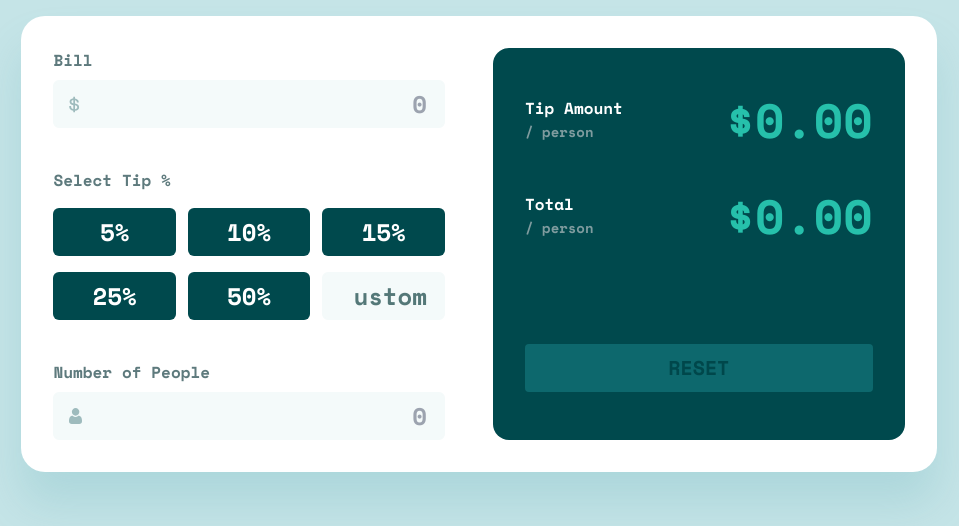
Test: TipCalculator › should clear all inputs and states when reset button is clicked
The image size is (959, 526).
Type "420" into the number field labelled "Bill" at (249, 104), box [53,80,445,128]
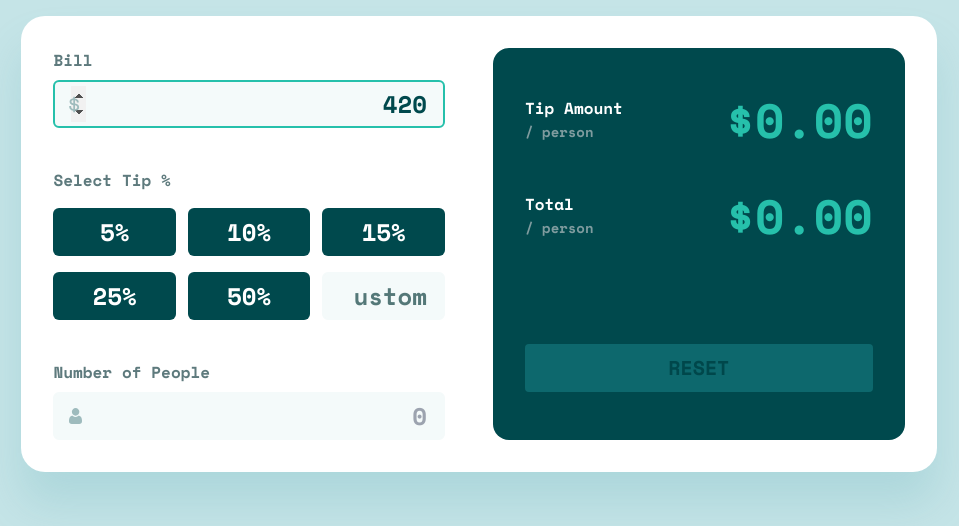
Type "4" into the number field labelled "Number of People" at (249, 416), box [53,392,445,440]
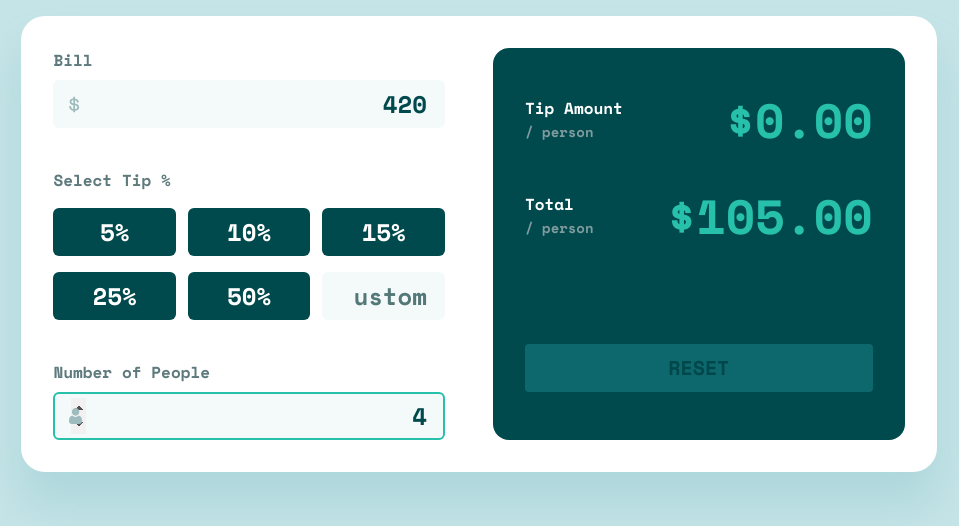
Click the button "15%" at (384, 232), box [322,208,445,256]
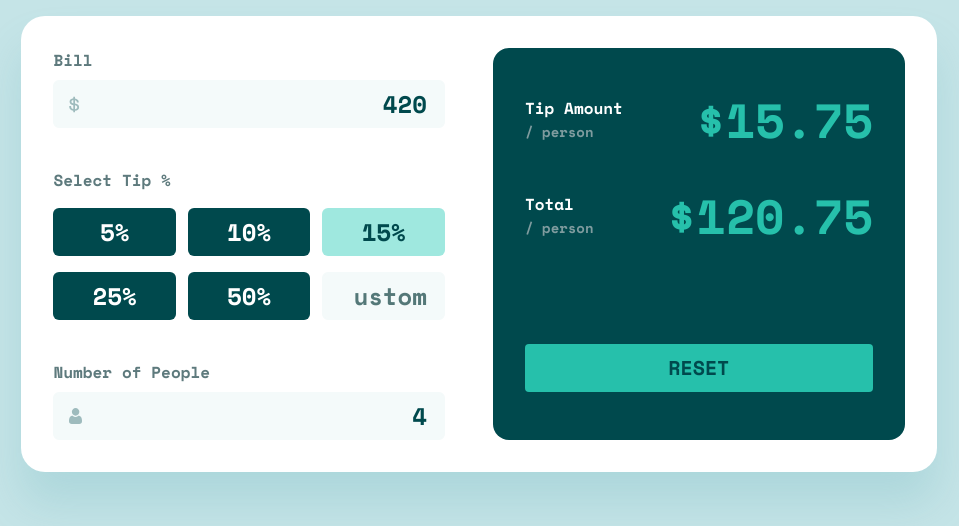
Click the button "RESET" at (699, 368), box [525,344,873,392]
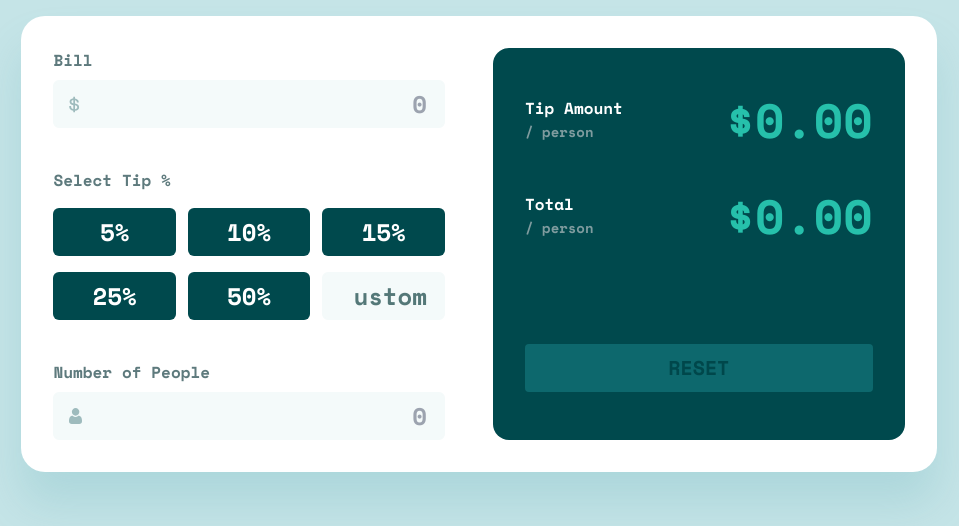
Now the number field labelled "Bill" is not empty, box [53,80,445,128]
Now the number field labelled "Number of People" is not empty, box [53,392,445,440]
Now the button "RESET" is disabled, box [525,344,873,392]
